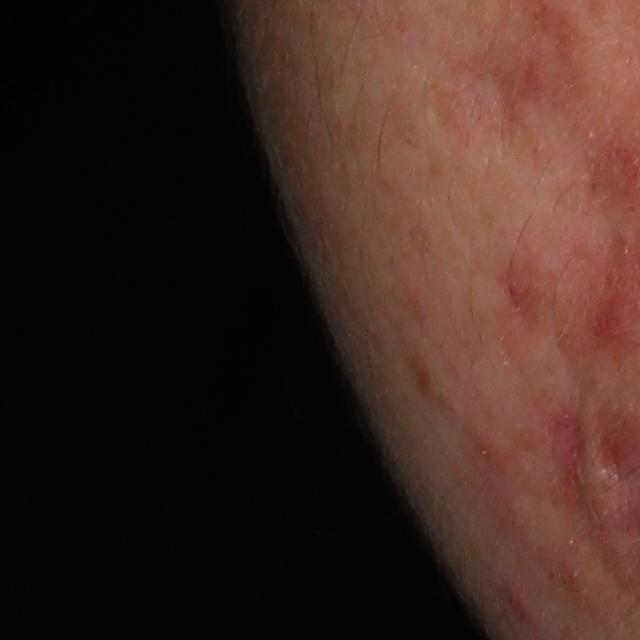papule: (503, 582, 539, 620)
